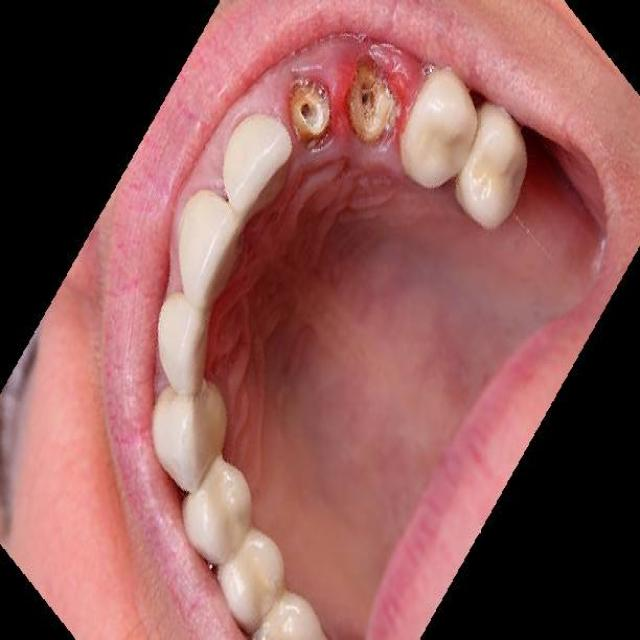caries: (282, 72, 334, 149), (341, 65, 391, 137)
